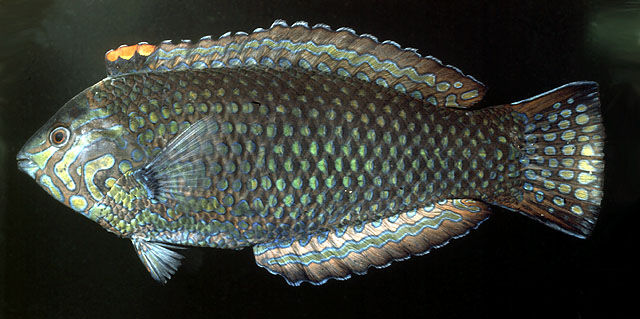fish: (15, 18, 607, 287)
